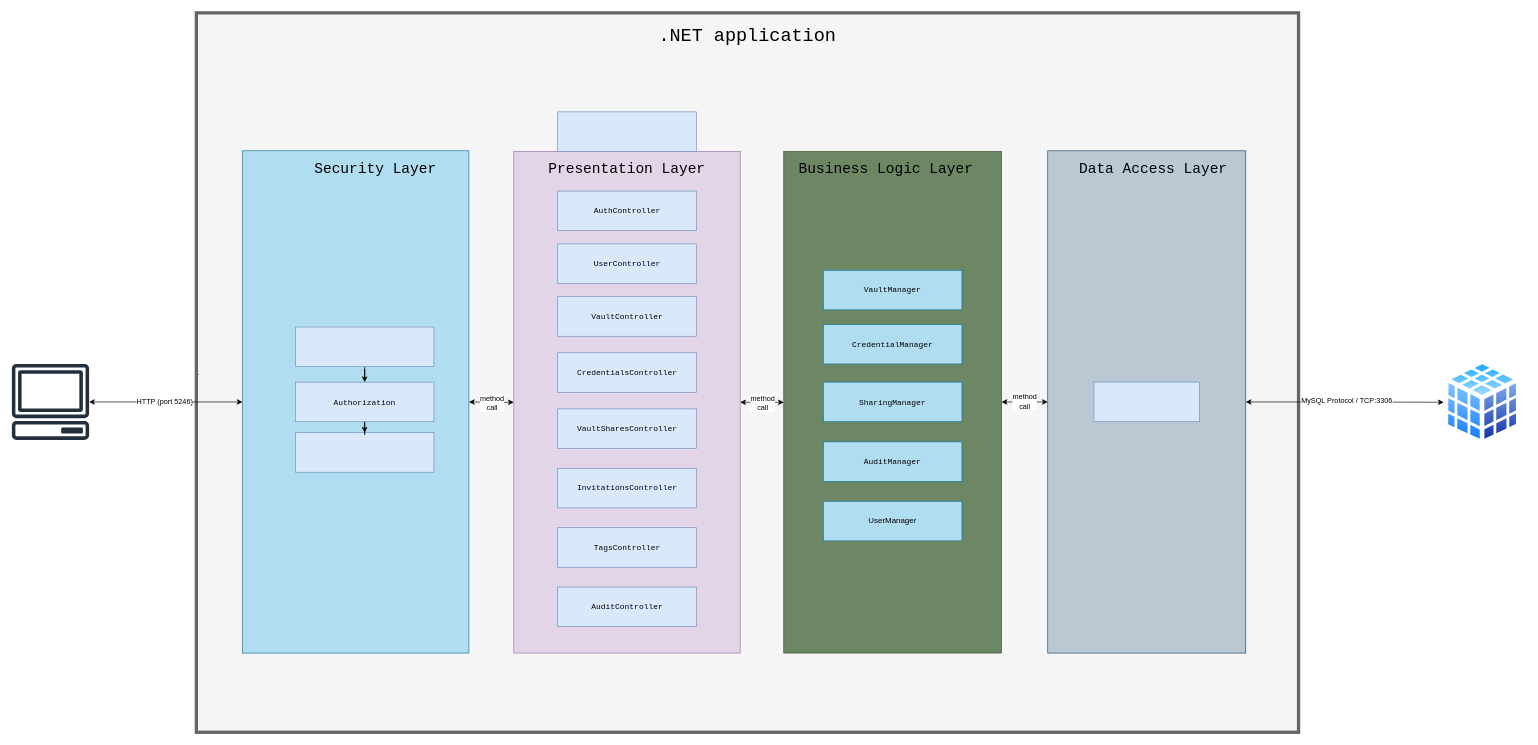
The diagram is 1538 pixels wide and 745 high, and some of its shapes have lost their labels. Each missing label, with the centre of its shape:
"ASP.NET Identity" belongs at (x=364, y=452).
"Client" belongs at (x=50, y=402).
"JWT Validator" belongs at (x=364, y=346).
"MySQL Database" belongs at (x=1482, y=402).
"Object Relational Mapper" belongs at (x=1146, y=401).
"Swagger/OpenAPI" belongs at (x=626, y=131).
